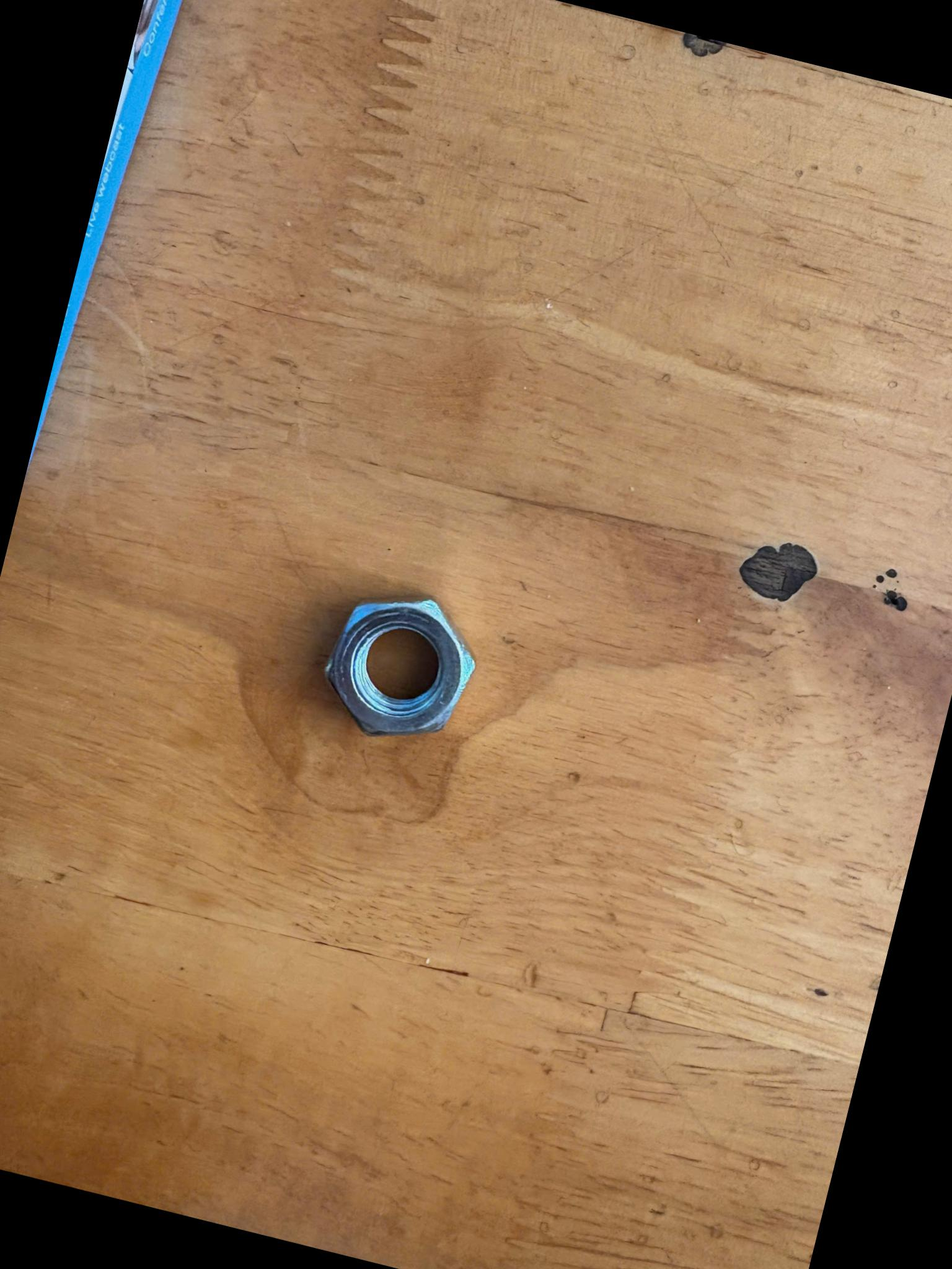nut: (267, 550, 509, 773)
